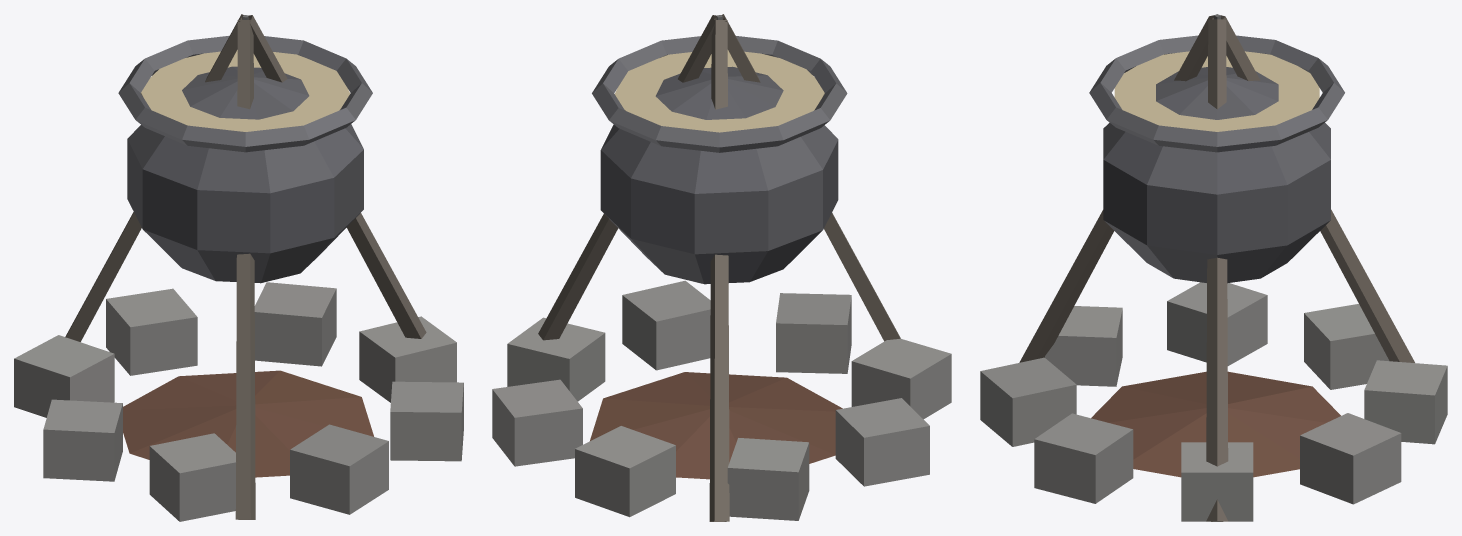
The model's file is cooking_pot.glb.
3 renders of one model, left to right at view 1: azimuth 30°, elevation 25°; view 2: azimuth 150°, elevation 25°; view 3: azimuth 270°, elevation 25°, orthographic.
Parts seen in each view (by area): view 1: ../props/cooking_pot; view 2: ../props/cooking_pot; view 3: ../props/cooking_pot.
Boxes of the visible parts, x1=… form: ../props/cooking_pot: x1=14, y1=14, x2=463, y2=521; ../props/cooking_pot: x1=492, y1=14, x2=951, y2=521; ../props/cooking_pot: x1=980, y1=14, x2=1447, y2=521.
Bounding box in the file's own units: 1.05 × 1.02 × 1.04.
